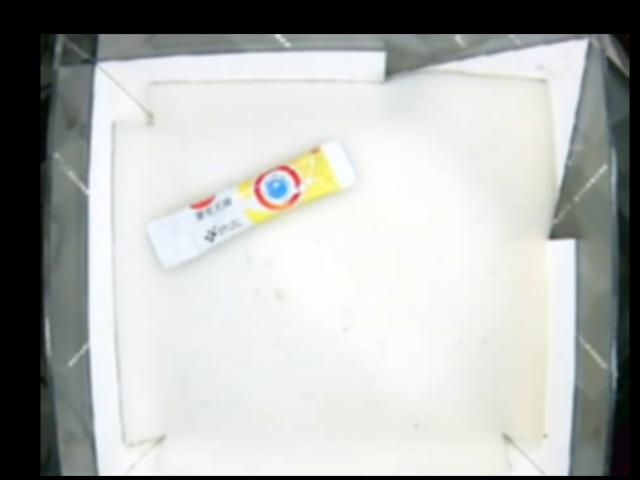Medicine: (147, 141, 355, 269)
